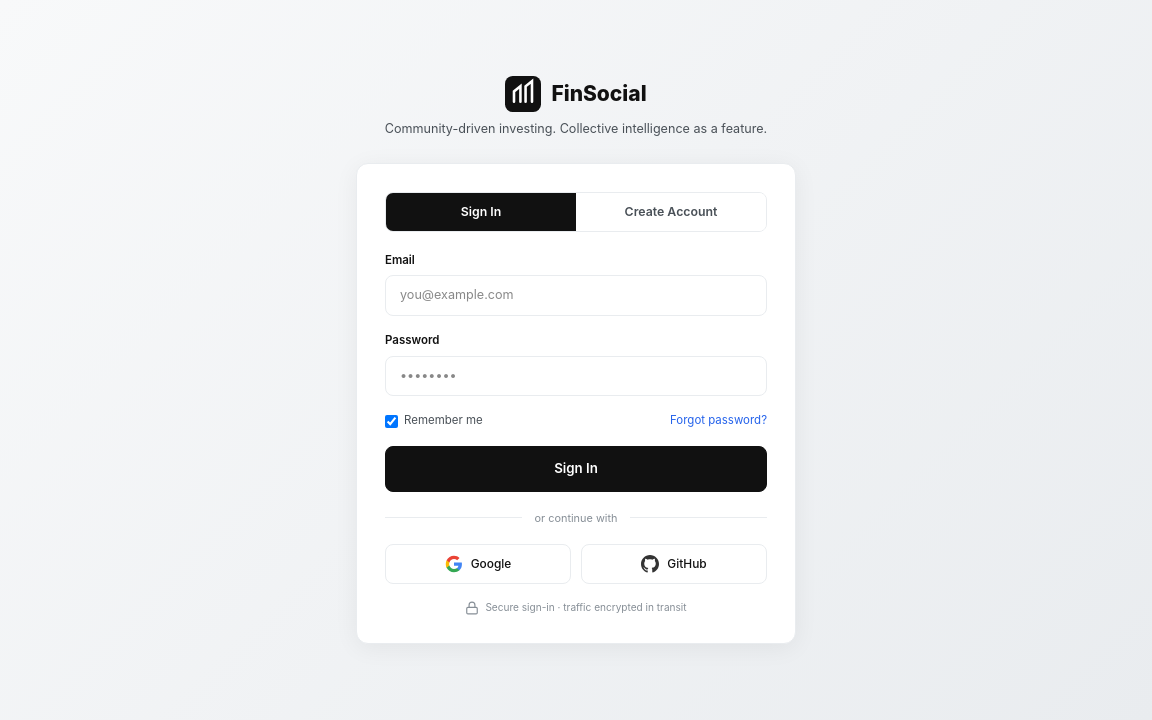
Test case: Auth Page › shows registration fields when Register tab is clicked
Click the button "Create Account" at (671, 212), box x1=576 y1=193 x2=766 y2=231
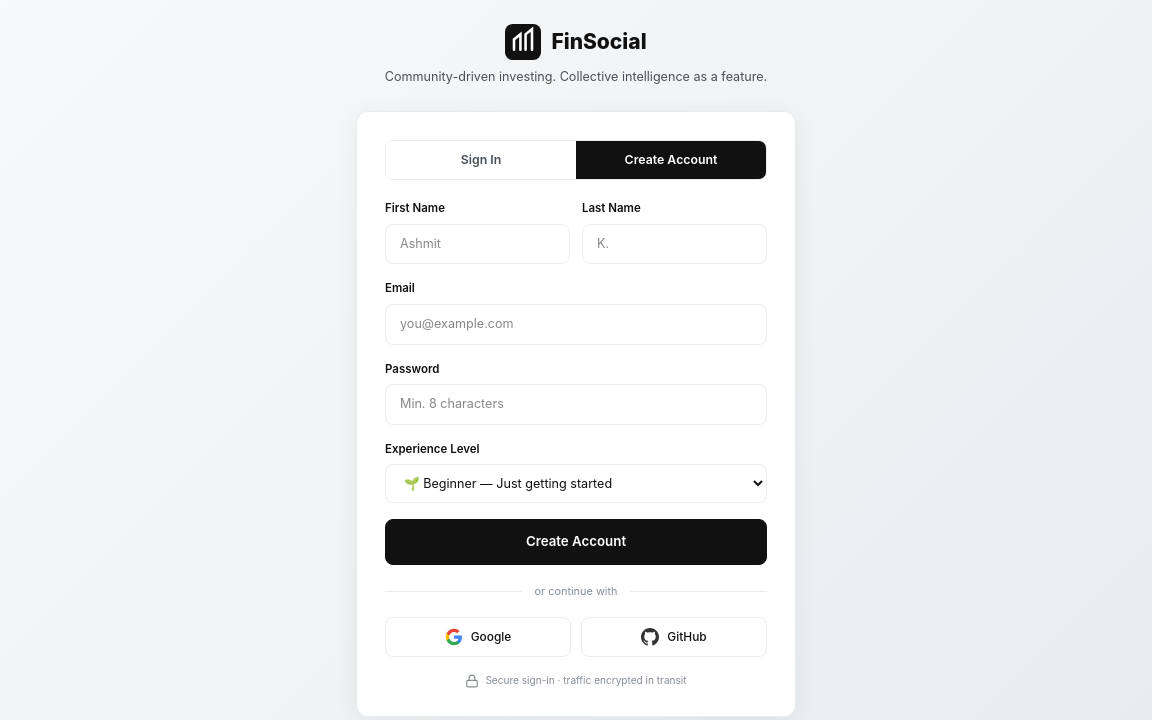
Now the field with placeholder "Ashmit" is shown, box x1=385 y1=224 x2=570 y2=264
